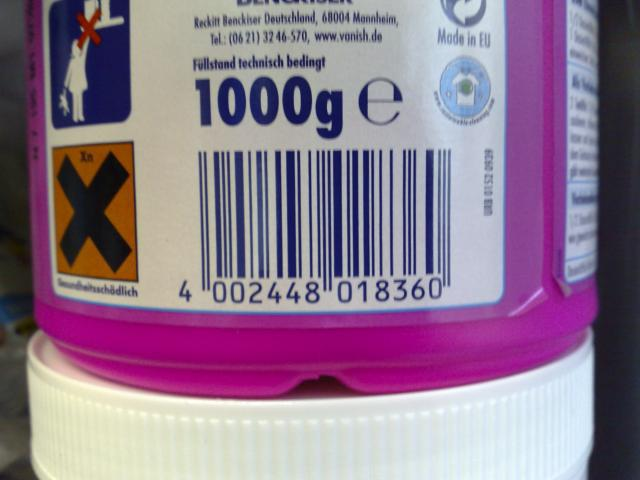Barkod: (196, 148, 452, 277)
